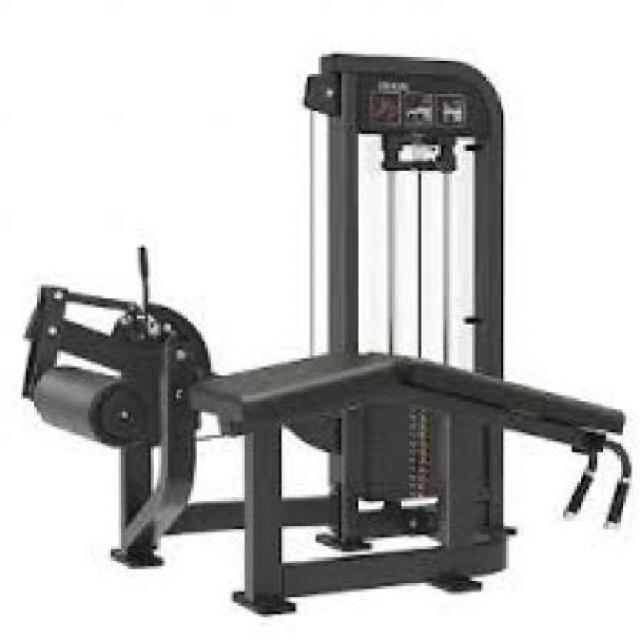reg curl machine: (12, 52, 631, 614)
